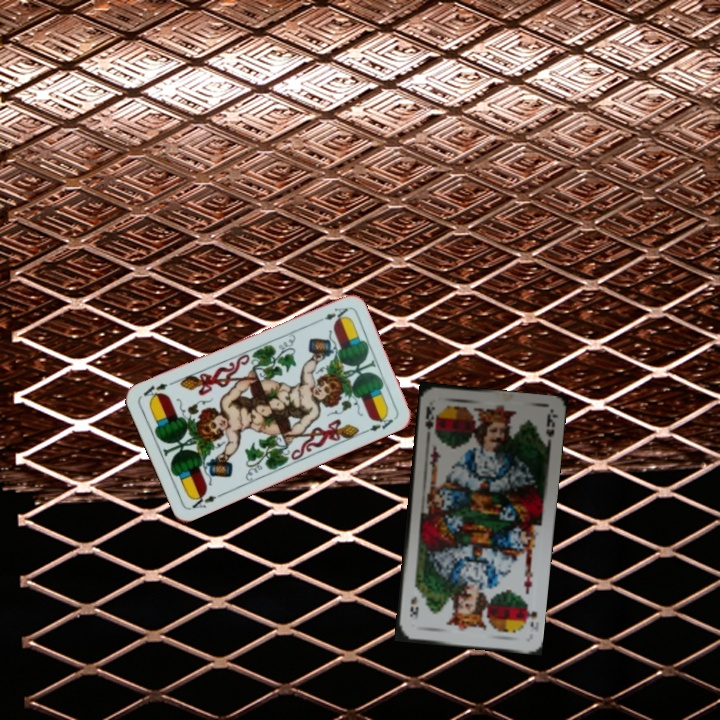EA: (312, 303, 351, 326), (186, 489, 225, 511)
SK: (421, 402, 440, 437), (520, 600, 539, 632)
